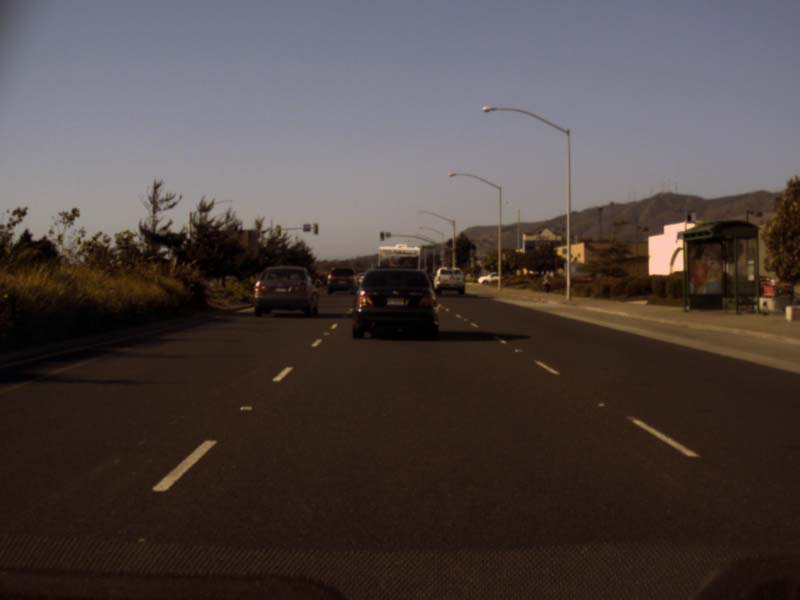Green: (379, 231, 384, 241)
